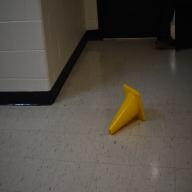cone: (108, 82, 145, 134)
